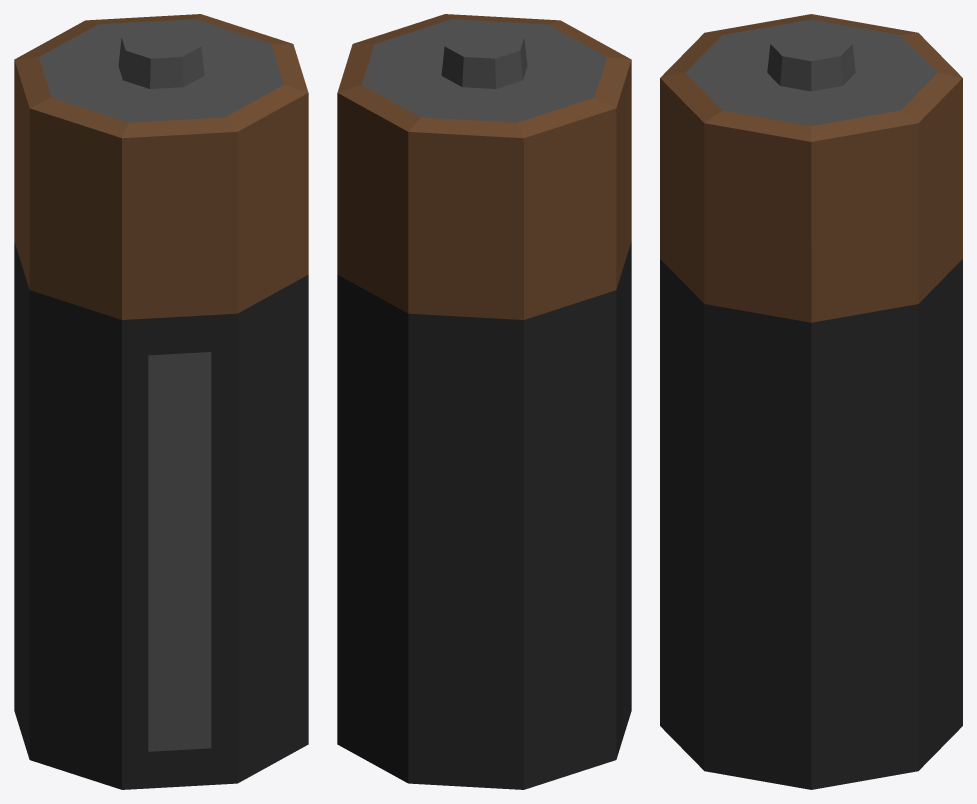
File: battery_small.glb
3 views of the same model, side by side, from view 1: azimuth 30°, elevation 25°; view 2: azimuth 150°, elevation 25°; view 3: azimuth 270°, elevation 25° (orthographic).
Visible parts, largest first — view 1: battery_small; view 2: battery_small; view 3: battery_small.
Boxes of the visible parts, <box> form: battery_small: <box>14,14,308,789</box>; battery_small: <box>337,14,631,789</box>; battery_small: <box>660,14,962,789</box>.
Size of the model in its own units: 0.0201 by 0.05 by 0.0201.
